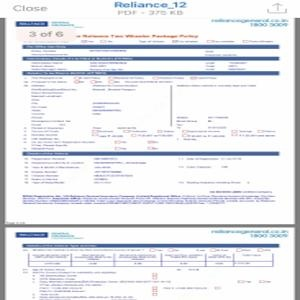table: (23, 243, 278, 269), (22, 42, 282, 60)
text: (20, 73, 280, 152), (22, 155, 275, 193), (21, 192, 274, 206), (210, 15, 290, 31)
